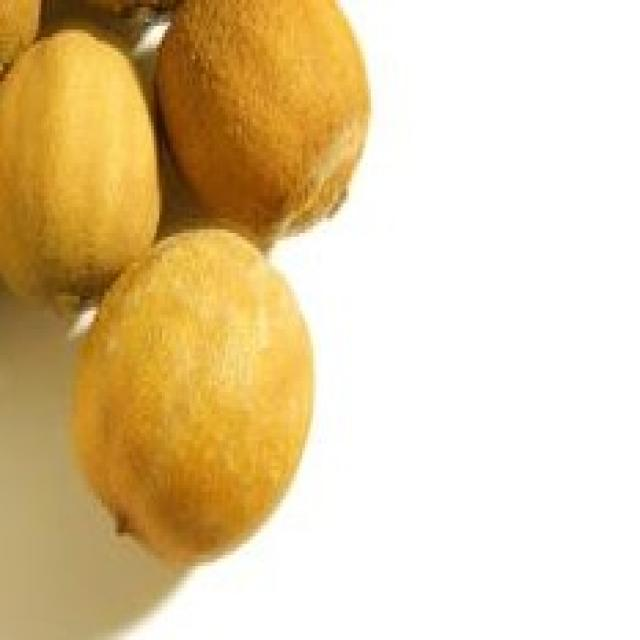overripe: (73, 222, 317, 570), (156, 0, 374, 233), (0, 30, 165, 307)
